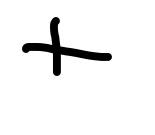plus: (22, 17, 112, 76)
